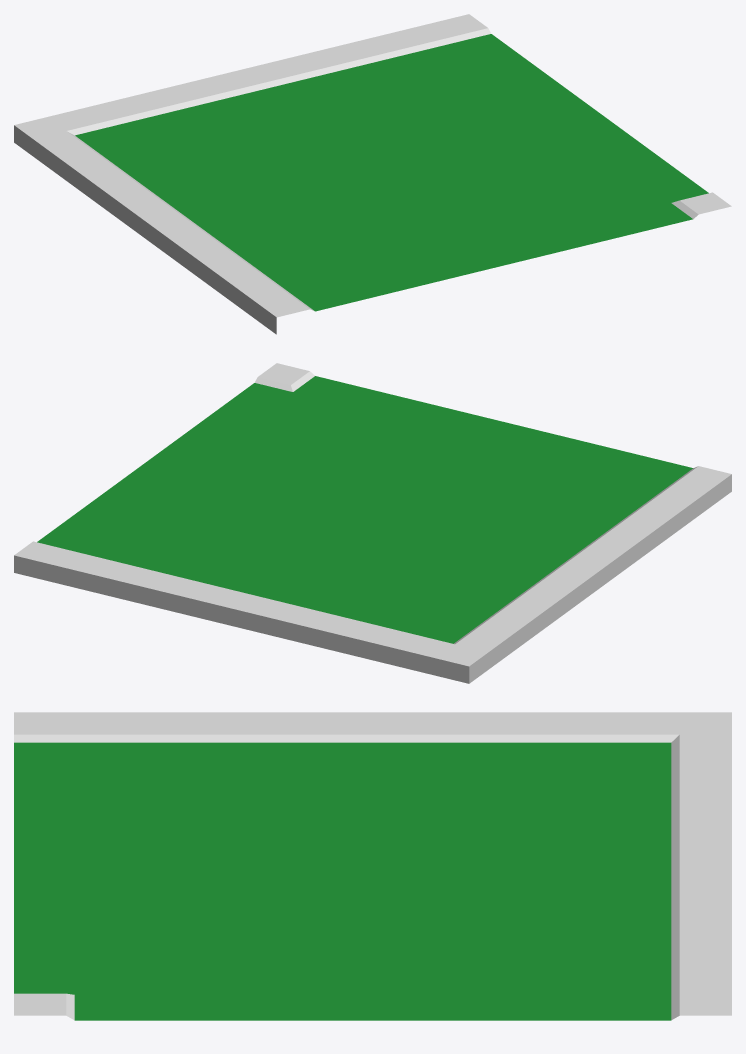
The model's file is GrassBed_1_A_9.fbx.
3 renders of one model, top to bottom at view 1: azimuth 30°, elevation 25°; view 2: azimuth 150°, elevation 25°; view 3: azimuth 270°, elevation 25°, orthographic. The views are drawn at different scales.
Visible parts, largest first — view 1: GrassBed_1_A_9; view 2: GrassBed_1_A_9; view 3: GrassBed_1_A_9.
Part boxes in pixels (x1=…): GrassBed_1_A_9: x1=14, y1=14, x2=731, y2=334; GrassBed_1_A_9: x1=14, y1=363, x2=731, y2=683; GrassBed_1_A_9: x1=14, y1=712, x2=731, y2=1020.
Size of the model in its own units: 200 by 7.32 by 200.
